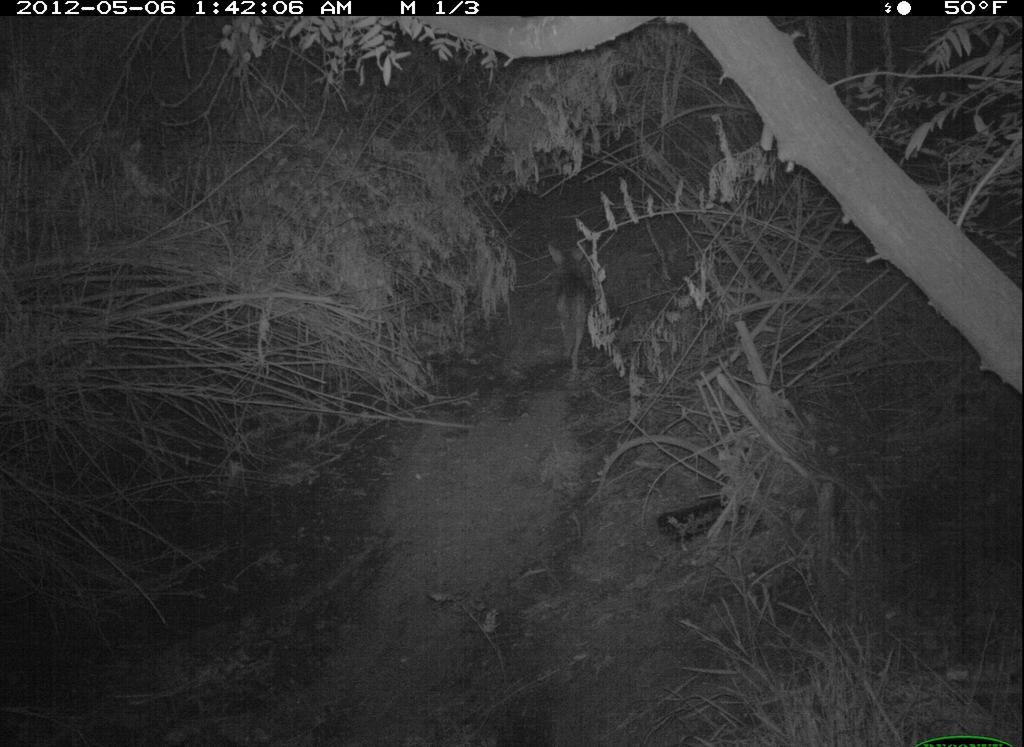coyote: (524, 235, 619, 394)
